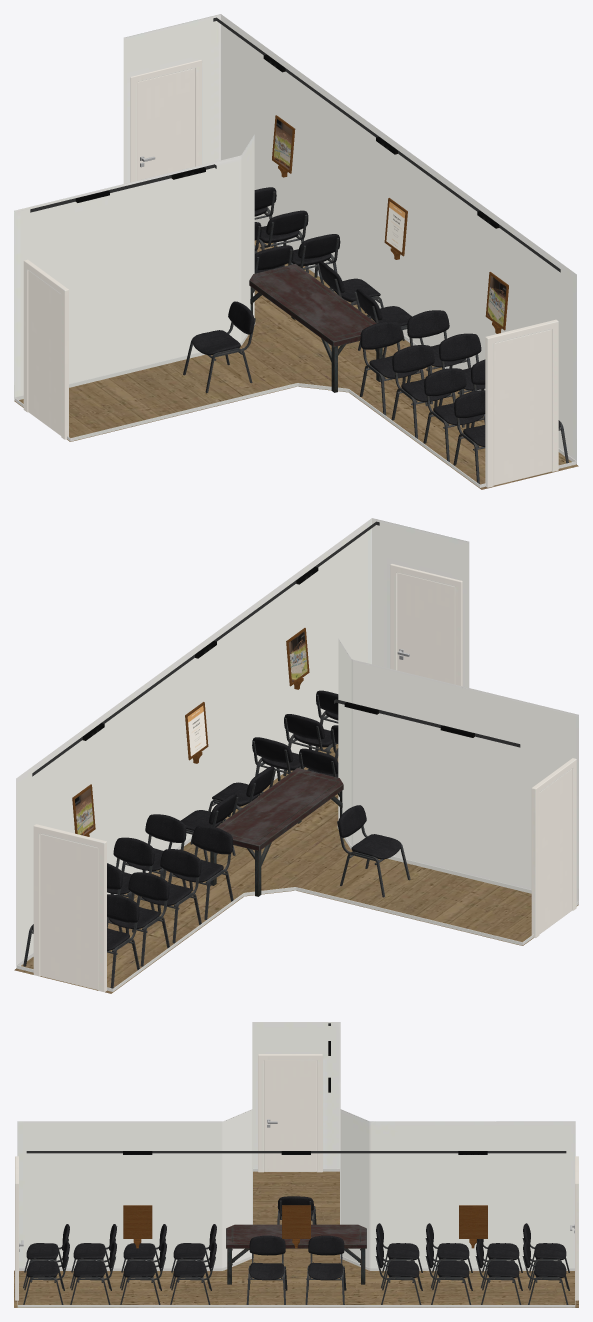
The model's file is hall.glb.
The picture shows the model from 3 angles, top to bottom: view 1: azimuth 30°, elevation 25°; view 2: azimuth 150°, elevation 25°; view 3: azimuth 270°, elevation 25°; orthographic projection. The views are drawn at different scales.
Visible parts, largest first — view 1: HALL_Block, HALL_Floor, HALL_Door2, HALL_Door1, HALL_Door3, HALL_PlanningTable, HALL_Baseboard, HALL_Chair_Learner, HALL_Chair_Resident_09, HALL_Chair_Resident_11, HALL_Chair_Resident_13, HALL_Chair_Resident_15 (+11 smaller); view 2: HALL_Block, HALL_Floor, HALL_Door1, HALL_Door2, HALL_Door3, HALL_PlanningTable, HALL_Baseboard, HALL_Chair_Learner, HALL_Chair_Resident_01, HALL_Chair_Resident_03, HALL_Chair_Resident_05, HALL_Chair_Resident_07 (+11 smaller); view 3: HALL_Block, HALL_Floor, HALL_Door3, HALL_PlanningTable, HALL_Baseboard, HALL_Chair_Official_2, HALL_Chair_Official_1, HALL_Painting1, HALL_Chair_Resident_08, HALL_Chair_Resident_02, HALL_Chair_Resident_04, HALL_Chair_Resident_06 (+17 smaller).
Boxes of the visible parts, x1,y1,x2,y2 form: HALL_Block: [14, 14, 576, 464]; HALL_Floor: [14, 240, 578, 489]; HALL_Door2: [485, 319, 558, 487]; HALL_Door1: [130, 60, 201, 182]; HALL_Door3: [23, 259, 68, 439]; HALL_PlanningTable: [249, 264, 382, 392]; HALL_Baseboard: [14, 242, 576, 487]; HALL_Chair_Learner: [183, 301, 255, 393]; HALL_Chair_Resident_09: [359, 321, 427, 415]; HALL_Chair_Resident_11: [391, 345, 458, 438]; HALL_Chair_Resident_13: [423, 368, 485, 461]; HALL_Chair_Resident_15: [453, 390, 485, 483]; HALL_Block: [16, 518, 578, 968]; HALL_Floor: [14, 744, 578, 993]; HALL_Door1: [33, 824, 106, 992]; HALL_Door2: [390, 564, 462, 686]; HALL_Door3: [531, 758, 576, 937]; HALL_PlanningTable: [210, 768, 343, 896]; HALL_Baseboard: [16, 746, 578, 991]; HALL_Chair_Learner: [337, 805, 410, 897]; HALL_Chair_Resident_01: [166, 825, 233, 919]; HALL_Chair_Resident_03: [132, 849, 201, 943]; HALL_Chair_Resident_05: [107, 872, 169, 966]; HALL_Chair_Resident_07: [107, 894, 139, 988]; HALL_Block: [17, 1022, 575, 1267]; HALL_Floor: [14, 1171, 578, 1307]; HALL_Door3: [258, 1054, 322, 1172]; HALL_PlanningTable: [226, 1224, 366, 1284]; HALL_Baseboard: [17, 1168, 575, 1307]; HALL_Chair_Official_2: [305, 1235, 346, 1304]; HALL_Chair_Official_1: [246, 1235, 287, 1304]; HALL_Painting1: [123, 1205, 152, 1238]; HALL_Chair_Resident_08: [522, 1241, 569, 1304]; HALL_Chair_Resident_02: [375, 1241, 422, 1304]; HALL_Chair_Resident_04: [425, 1241, 472, 1304]; HALL_Chair_Resident_06: [475, 1241, 522, 1304].
Size of the model in its own units: 5.53 by 2.85 by 9.61.
18 materials, 16 textured.
